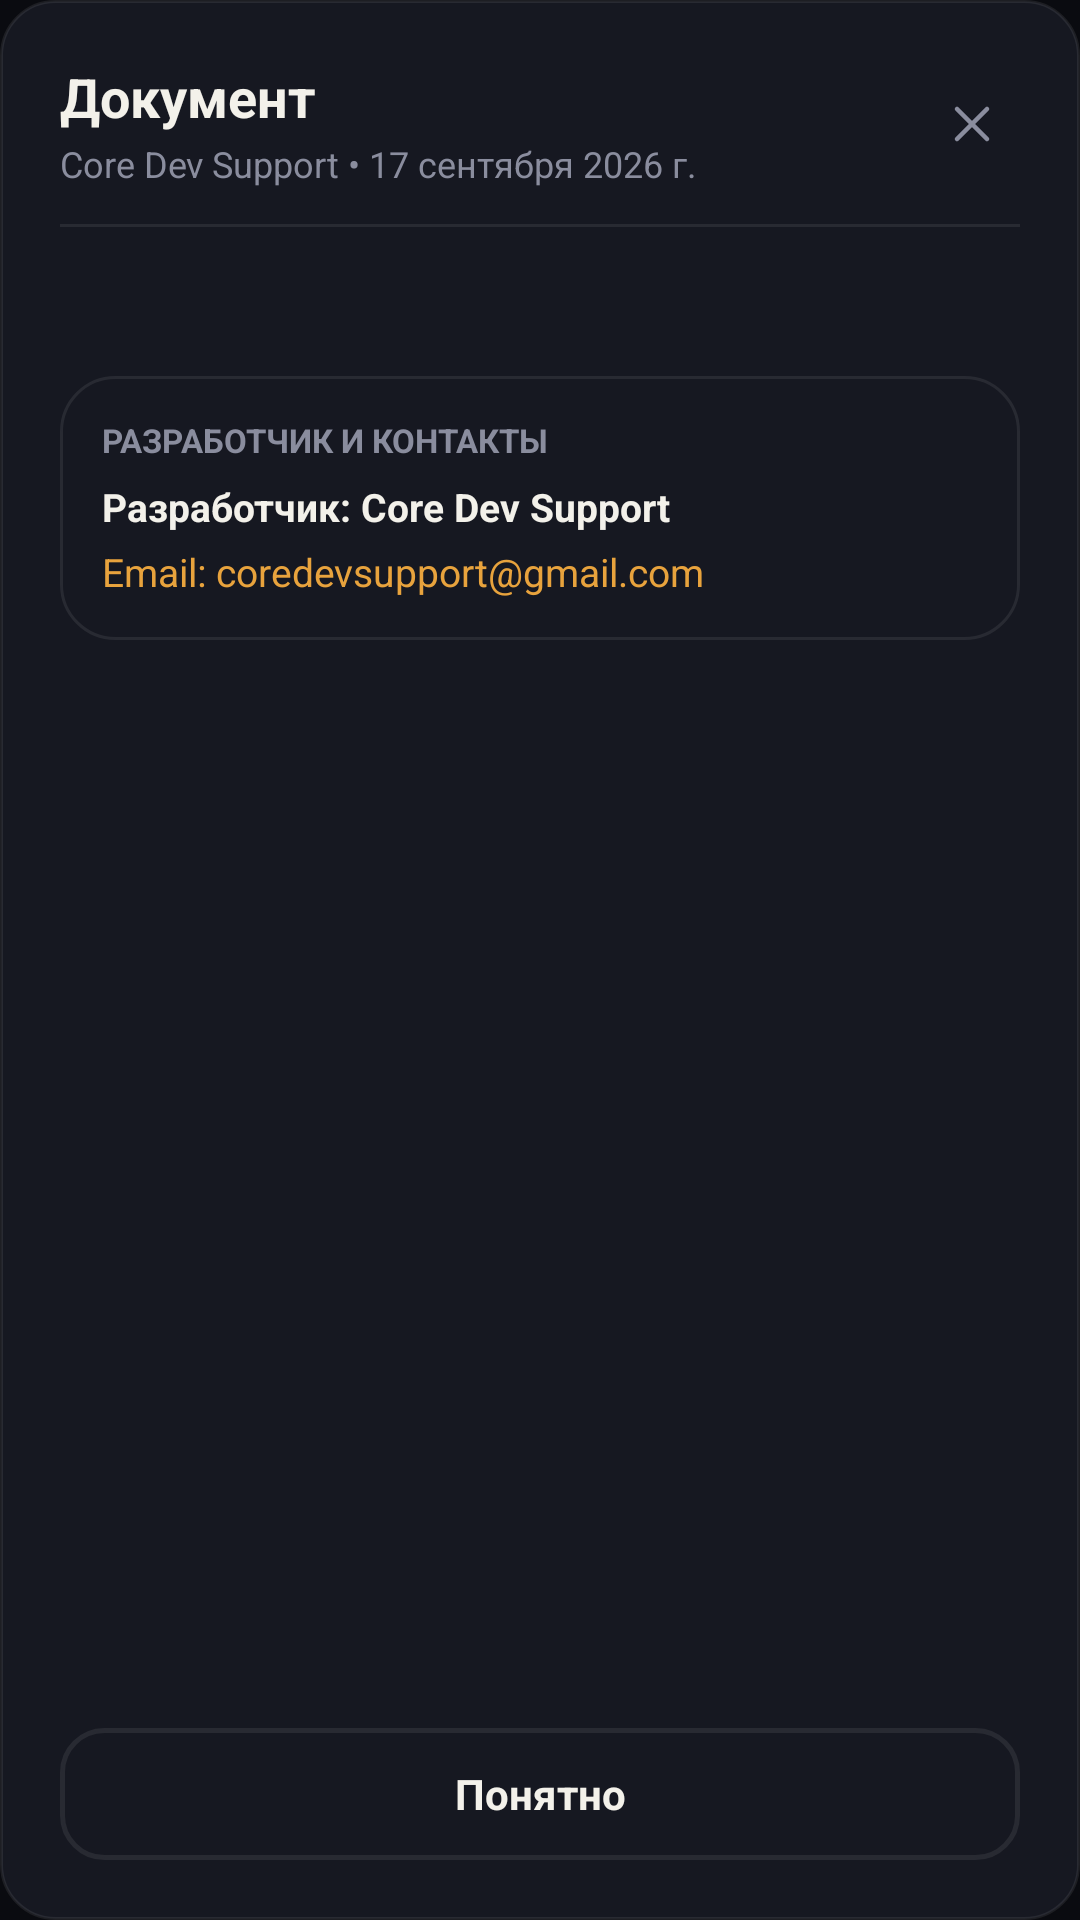

Screen size 1080w x 1920h. Icon name, then its center in pixels as (x=x, y=y):
Закрыть: (x=972, y=124)
